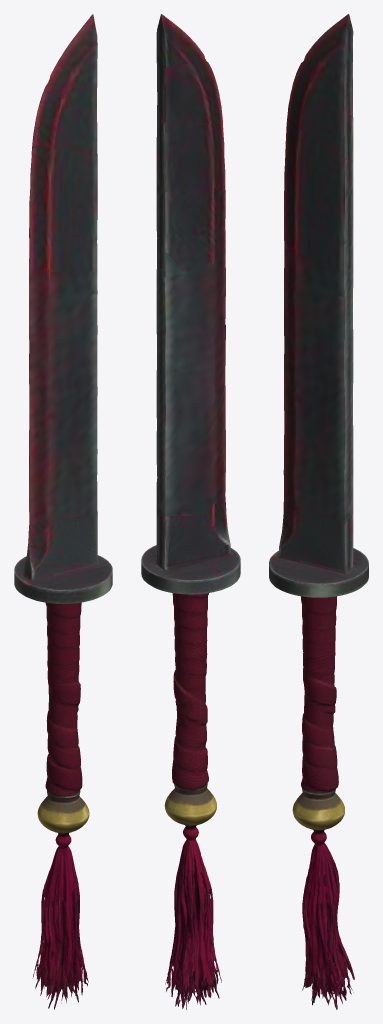
3 renders of one model, left to right at view 1: azimuth 30°, elevation 25°; view 2: azimuth 210°, elevation 25°; view 3: azimuth 330°, elevation 25°, orthographic.
Parts seen in each view (by area): view 1: Mesh_0; view 2: Mesh_0; view 3: Mesh_0.
Boxes of the visible parts, x1=… form: Mesh_0: x1=14, y1=14, x2=112, y2=1009; Mesh_0: x1=141, y1=14, x2=240, y2=1009; Mesh_0: x1=269, y1=14, x2=368, y2=1009.
Bounding box in the file's own units: 0.1715 × 1.9 × 0.1709.
1 material, 1 textured.
